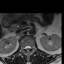CCS_normal: (26, 43, 28, 53)
LFS_stenosis: (31, 44, 33, 50)
LLS_normal: (28, 43, 31, 51)
RFS_normal: (22, 45, 24, 51)
RLS_normal: (24, 44, 26, 50)
